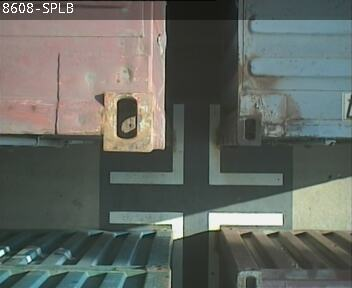groundmarker_1: (109, 105, 283, 185), (107, 212, 283, 288)
